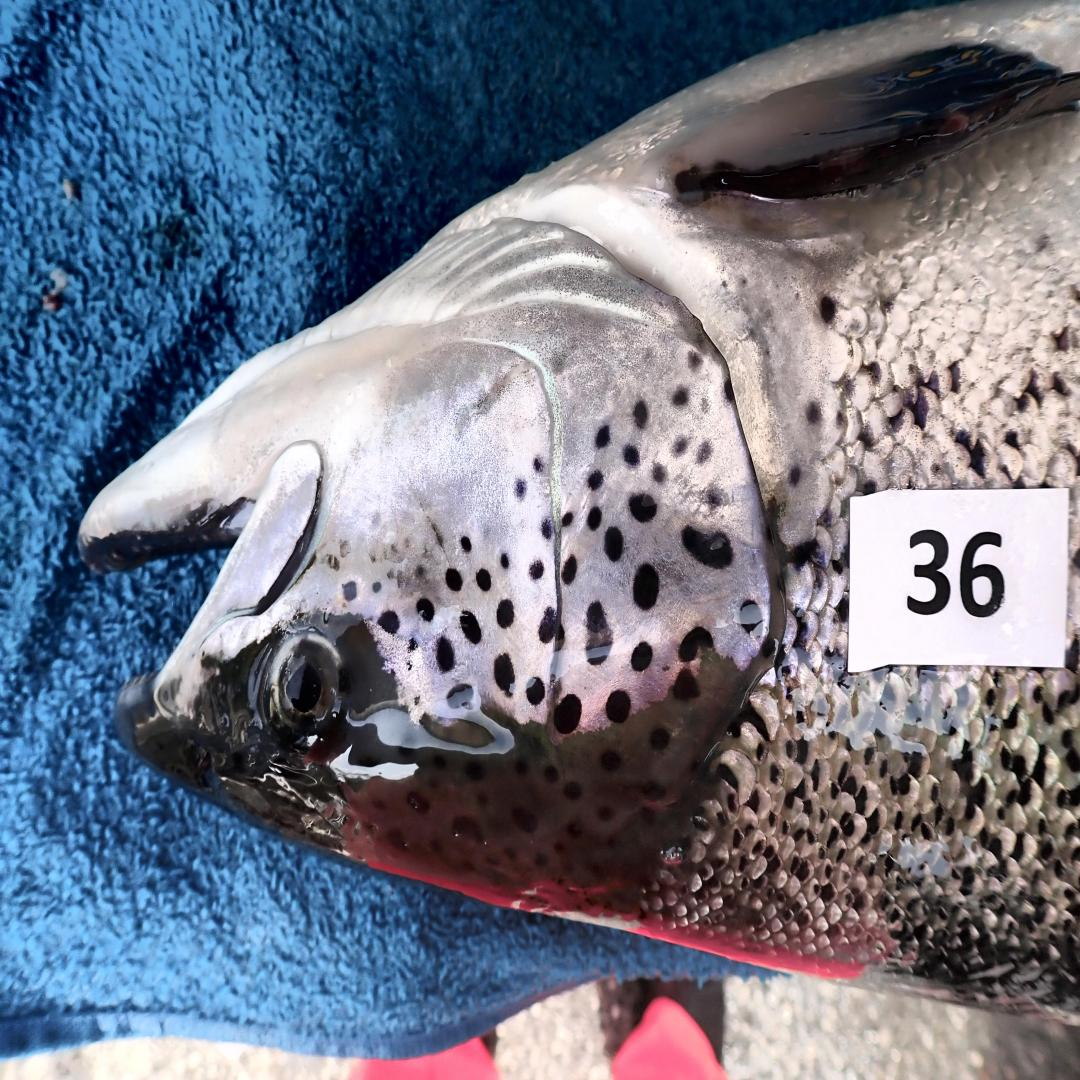spot: (681, 526, 732, 568), (586, 602, 612, 664), (633, 562, 660, 610), (679, 627, 713, 664), (553, 695, 582, 734), (736, 599, 764, 638), (700, 481, 732, 512), (670, 669, 700, 700), (494, 652, 515, 695), (605, 689, 631, 723), (629, 495, 658, 523), (603, 526, 624, 560), (460, 610, 481, 644), (447, 684, 474, 710), (688, 439, 713, 467), (538, 608, 557, 644), (437, 636, 456, 672), (631, 641, 652, 672), (525, 678, 546, 706), (378, 610, 399, 636), (555, 613, 565, 667), (496, 599, 515, 627), (561, 554, 578, 585), (416, 596, 435, 622), (671, 385, 690, 408), (622, 444, 641, 467), (633, 399, 648, 428), (686, 349, 705, 371), (445, 568, 462, 591), (595, 425, 612, 447), (513, 475, 527, 501), (586, 506, 601, 529), (586, 470, 603, 489), (477, 568, 491, 591), (342, 579, 356, 602), (673, 436, 688, 456), (652, 464, 667, 484), (323, 554, 340, 571), (540, 518, 553, 540), (529, 560, 544, 579), (725, 377, 734, 401), (460, 534, 472, 551), (534, 456, 546, 472), (561, 512, 574, 526), (369, 579, 382, 593), (500, 551, 510, 568), (340, 540, 350, 557), (408, 638, 418, 652), (417, 566, 424, 577), (414, 696, 420, 706), (407, 661, 412, 670)
